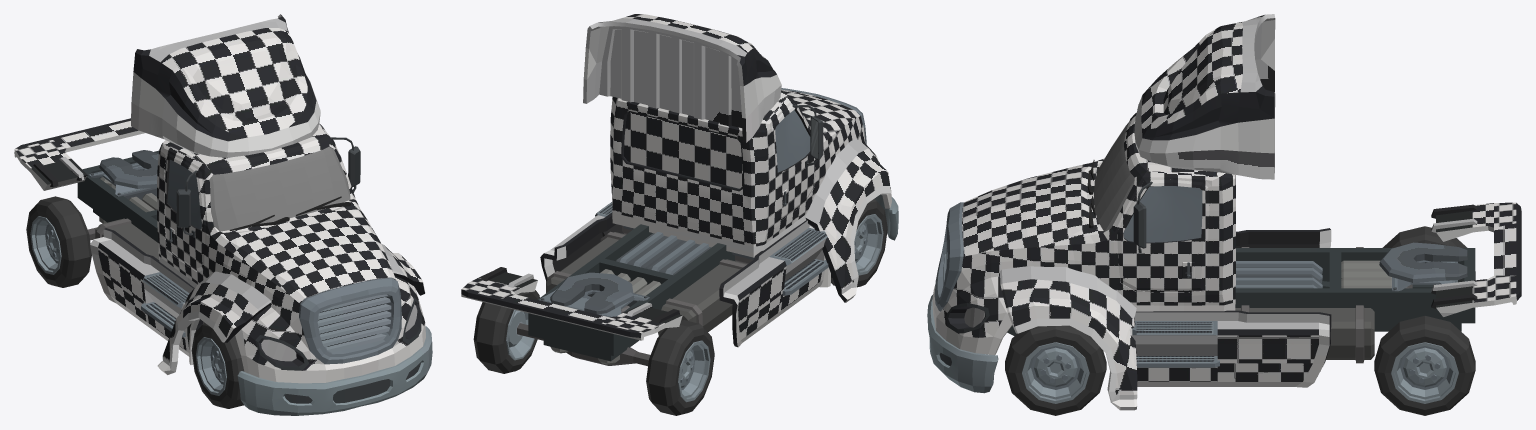
Rendered from redline_pro_truck.glb.
The picture shows the model from 3 angles, left to right: view 1: azimuth 30°, elevation 25°; view 2: azimuth 150°, elevation 25°; view 3: azimuth 270°, elevation 25°; orthographic projection. The views are drawn at different scales.
Visible parts, largest first — view 1: Body, Wheel_RR, Door_R, Wheel_FR; view 2: Body, Wheel_RR, Door_R, Wheel_RL, Wheel_FR; view 3: Body, Door_L, Wheel_RL, Wheel_FL, Wheel_RR.
Part boxes in pixels (<box>): Body: <box>14,14,432,415</box>; Wheel_RR: <box>26,196,91,287</box>; Door_R: <box>164,153,206,272</box>; Wheel_FR: <box>191,322,244,408</box>; Body: <box>461,14,898,366</box>; Wheel_RR: <box>646,320,714,415</box>; Door_R: <box>772,102,815,223</box>; Wheel_RL: <box>473,290,539,373</box>; Wheel_FR: <box>831,198,887,287</box>; Body: <box>927,14,1521,410</box>; Door_L: <box>1117,179,1209,292</box>; Wheel_RL: <box>1374,316,1475,415</box>; Wheel_FL: <box>1005,325,1106,415</box>; Wheel_RR: <box>1382,226,1475,279</box>.
Size of the model in its own units: 2.18 by 2.62 by 4.4.
Materials: 2 (2 with a texture image).
